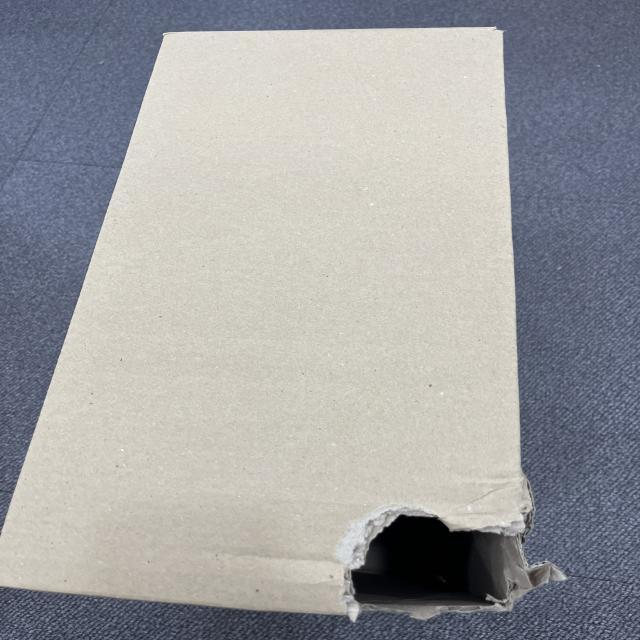hole: (325, 503, 527, 623)
